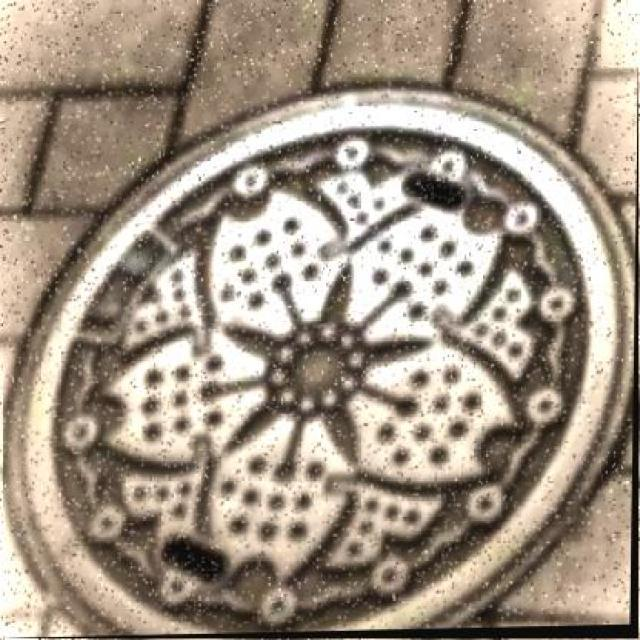Manhole: (3, 67, 639, 638)
